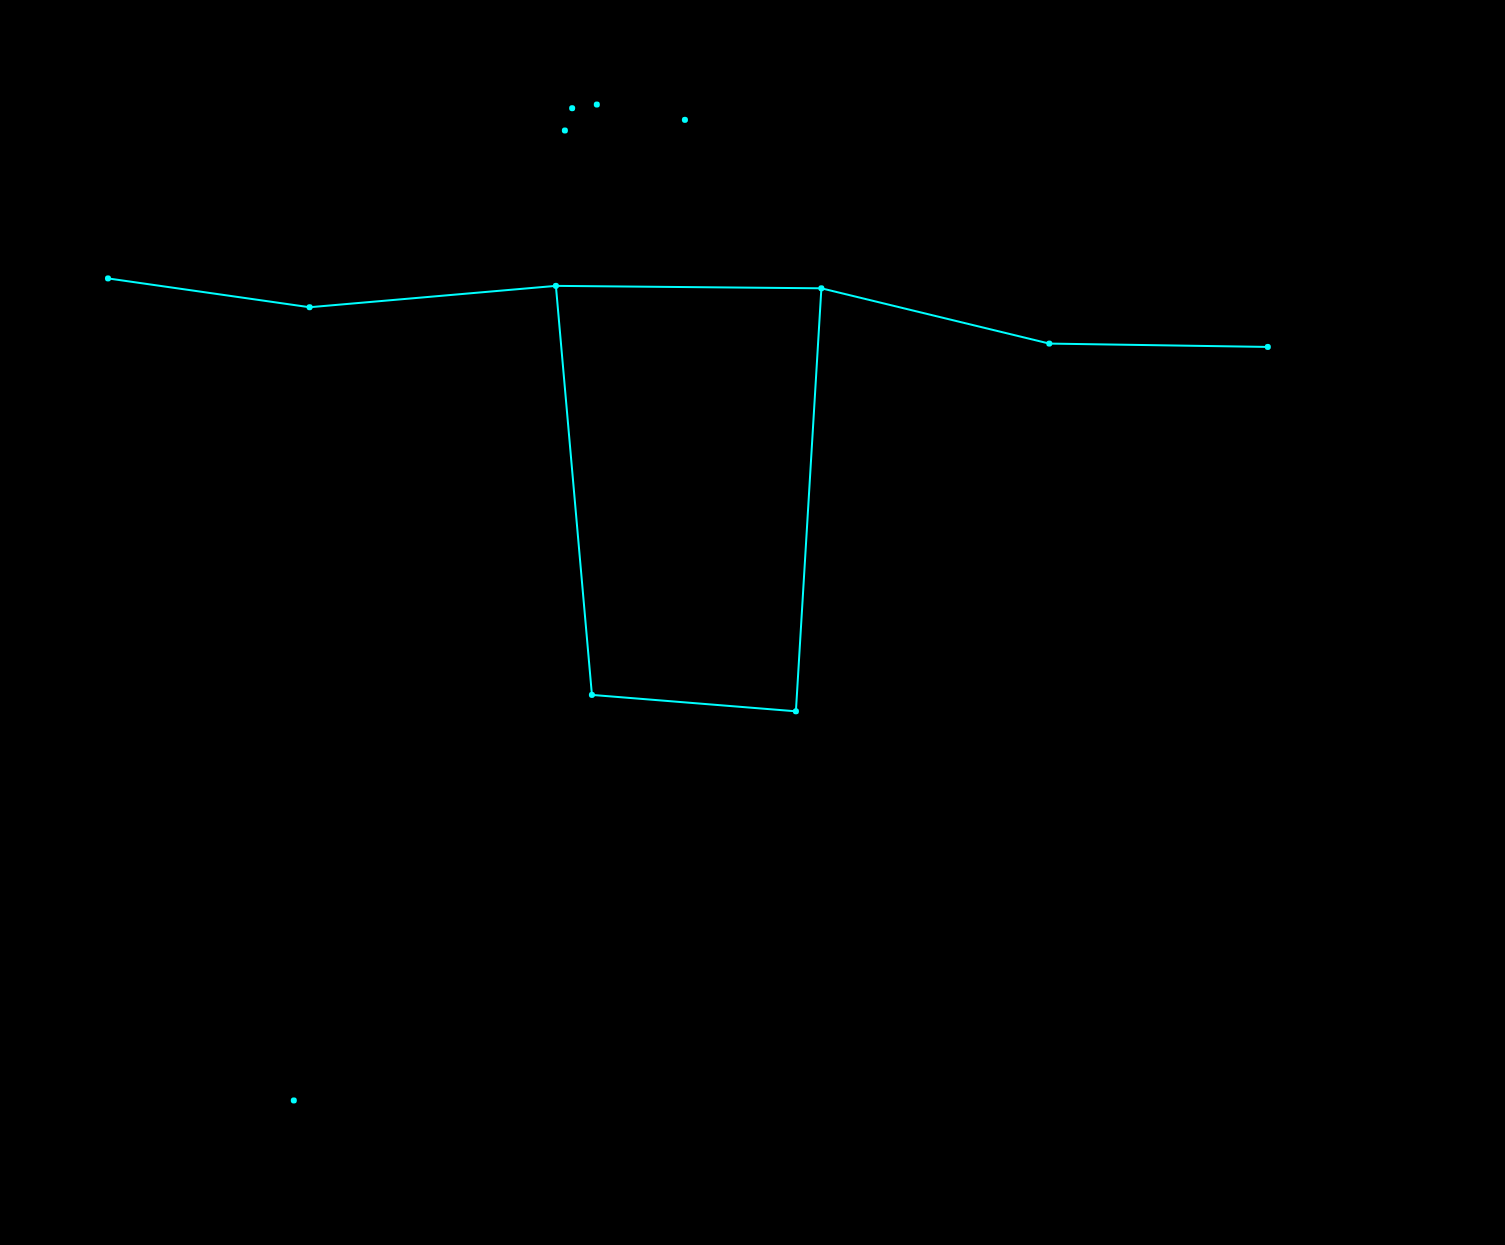warrior_2: (74, 84, 1292, 1124)
